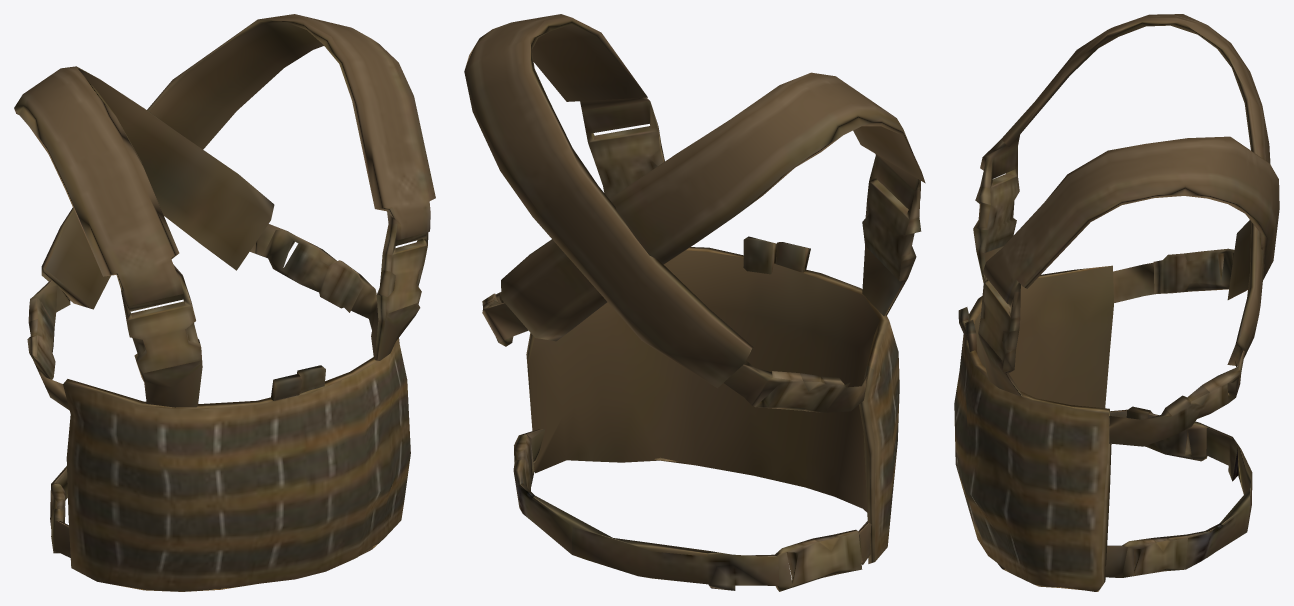
File: Vest_Rig.fbx
3 views of the same model, side by side, from view 1: azimuth 30°, elevation 25°; view 2: azimuth 150°, elevation 25°; view 3: azimuth 270°, elevation 25° (orthographic). The views are drawn at different scales.
Visible parts, largest first — view 1: GunMesh; view 2: GunMesh; view 3: GunMesh.
Part boxes in pixels (left/top/right/bottom): GunMesh: left=14, top=14, right=435, bottom=591; GunMesh: left=464, top=14, right=925, bottom=591; GunMesh: left=954, top=14, right=1279, bottom=591.
Bounding box in the file's own units: 0.4387 × 0.55 × 0.3578.
Materials: 1 (1 with a texture image).
